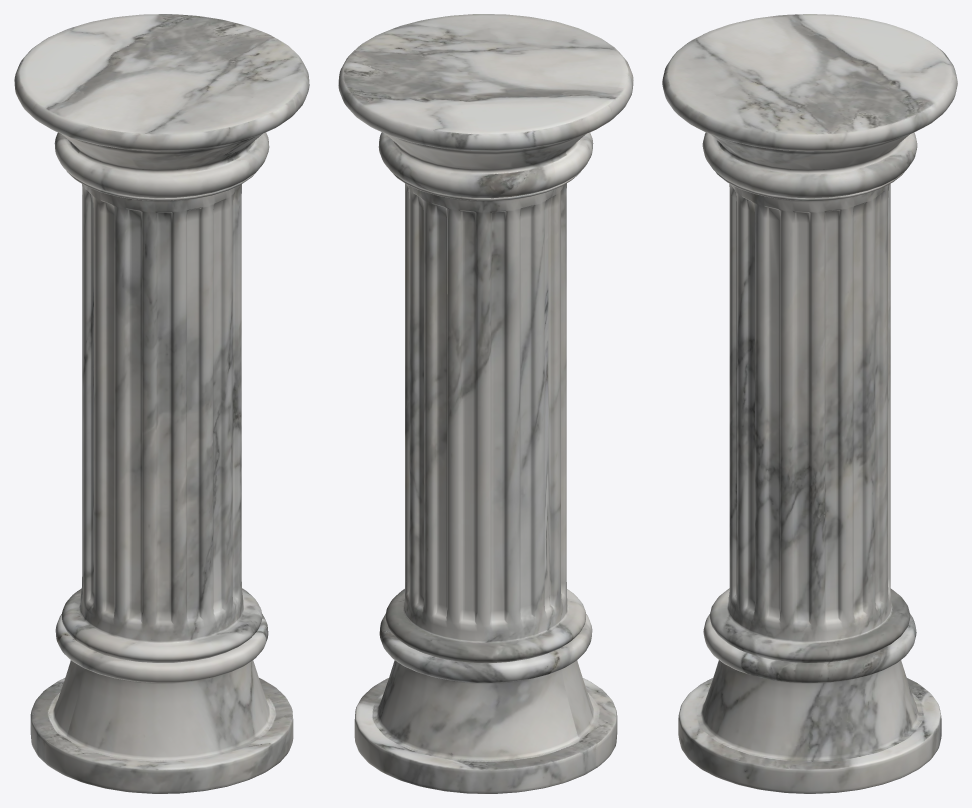
Rendered from column.glb.
3 views of the same model, side by side, from view 1: azimuth 30°, elevation 25°; view 2: azimuth 150°, elevation 25°; view 3: azimuth 270°, elevation 25° (orthographic).
Visible parts, largest first — view 1: Column; view 2: Column; view 3: Column.
Boxes of the visible parts, box(x1,y1,x2,y2) form: Column: box(14, 14, 309, 793); Column: box(338, 14, 633, 793); Column: box(662, 14, 957, 793).
Size of the model in its own units: 0.4826 by 1.2 by 0.483.
1 material, 1 textured.
